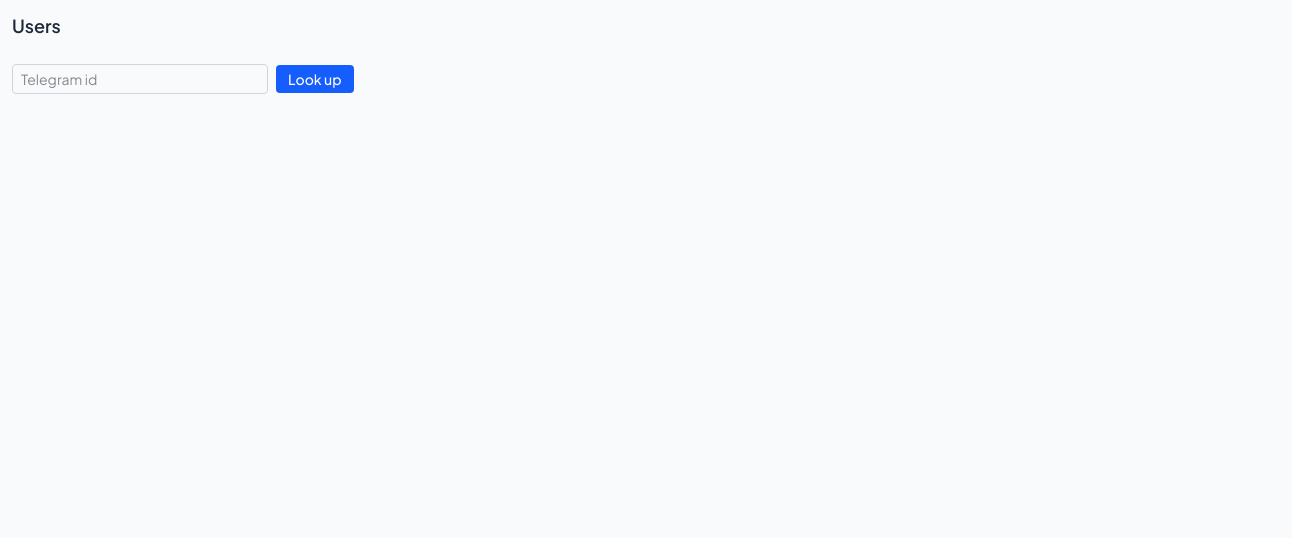
Test: OpsUsers lookup + footprint › looks up a user by telegram id and shows the footprint counts
Type "1010" into the field with placeholder "Telegram id".
click(140, 79); type("1010")  # box [12, 64, 268, 94]
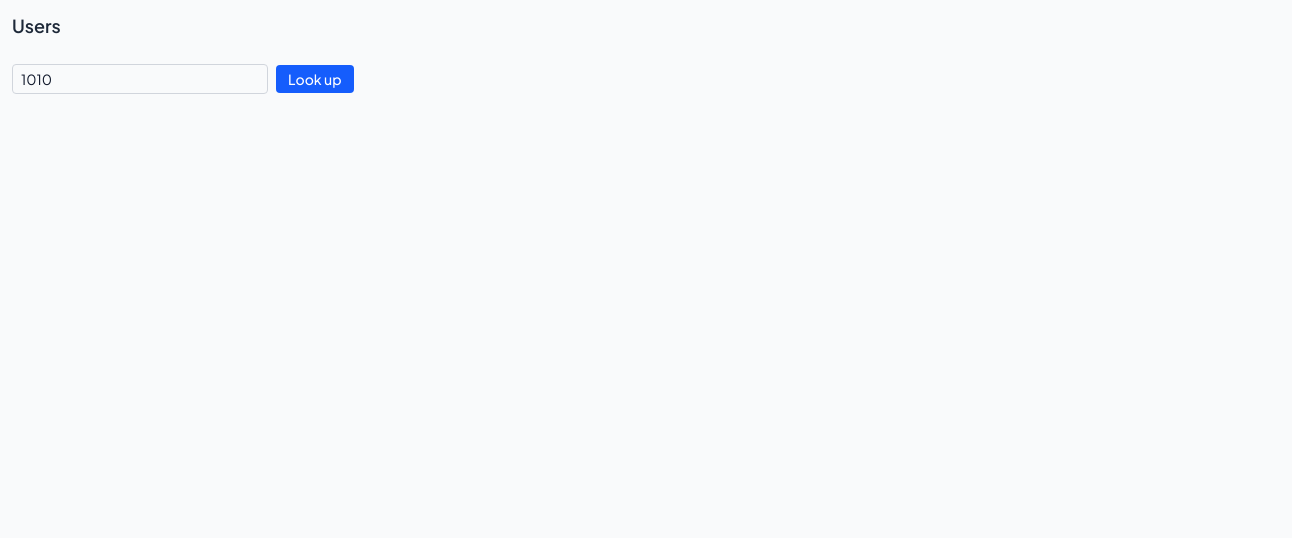
Click the button "Look up".
click(315, 79)  # box [276, 65, 354, 93]
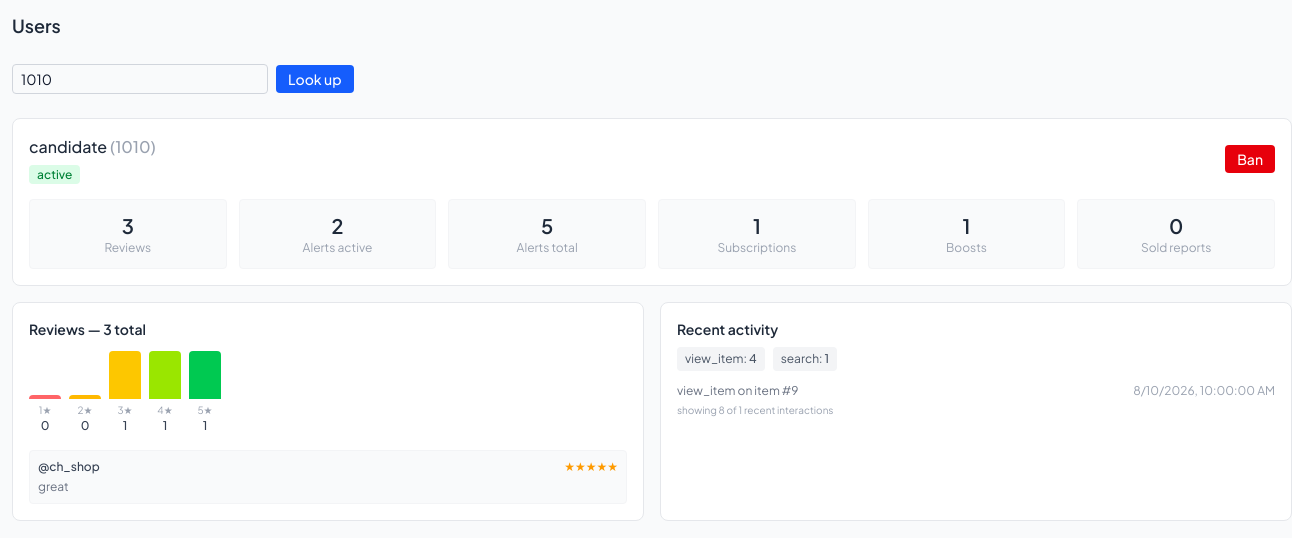
Expected: the text "candidate (1010)" is shown, [29, 135, 156, 159]
Expected: the text "3" is shown, [122, 213, 134, 238]
Expected: the text "5" is shown, [541, 213, 553, 238]
